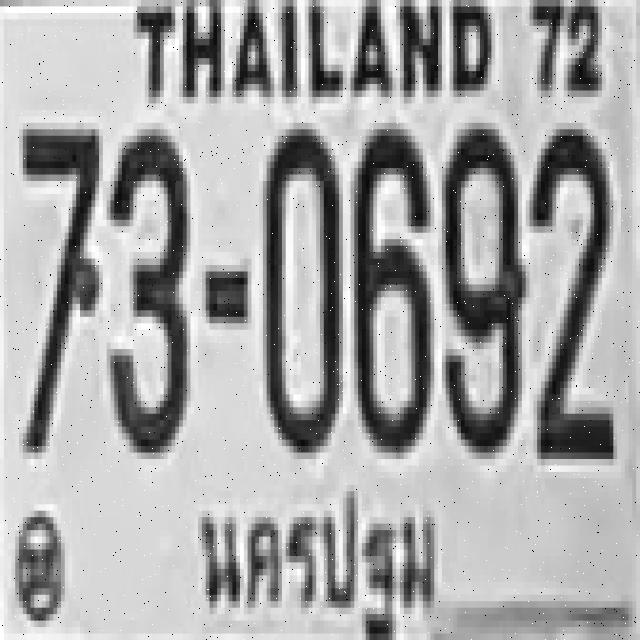0: (261, 123, 337, 446)
2: (530, 126, 610, 456), (528, 122, 608, 426)
3: (106, 126, 186, 449)
6: (351, 123, 426, 446)
7: (17, 126, 97, 449)
9: (442, 123, 522, 446)
NakhonPathom: (189, 468, 452, 640)
